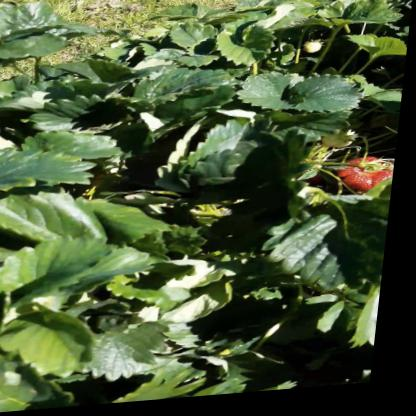ripe: (345, 160, 400, 200)
unripe: (321, 136, 364, 157), (301, 44, 331, 60)
